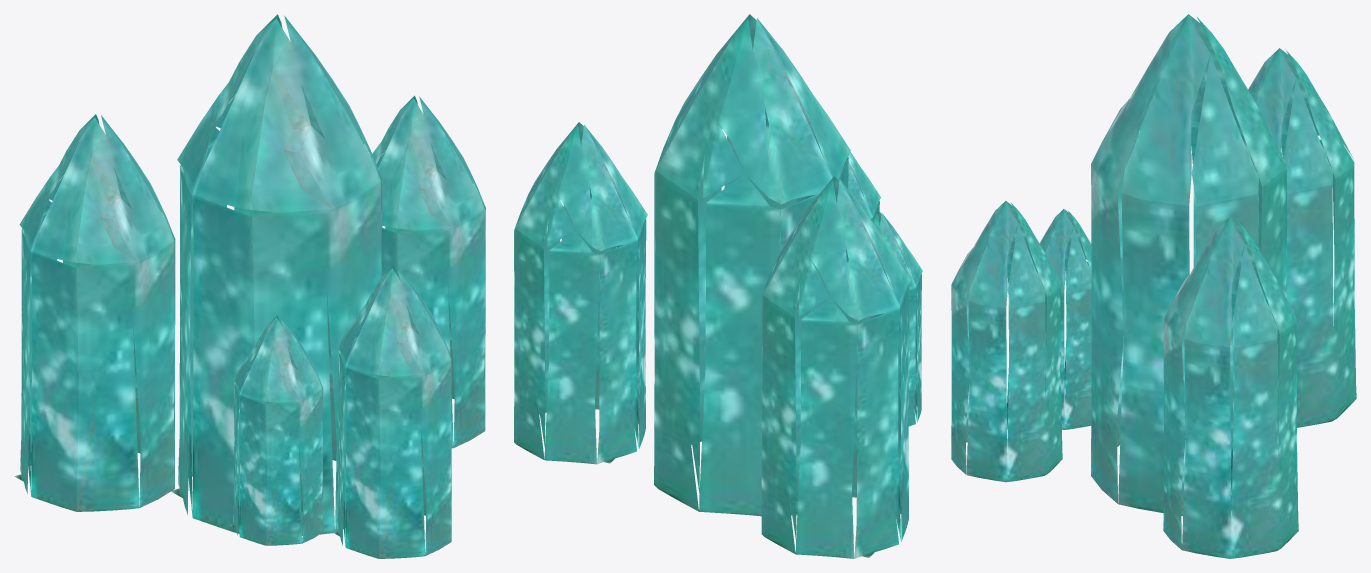
Rendered from scar_crystal_b_lod1.glb.
3 renders of one model, left to right at view 1: azimuth 30°, elevation 25°; view 2: azimuth 150°, elevation 25°; view 3: azimuth 270°, elevation 25°, orthographic. The views are drawn at different scales.
Visible parts, largest first — view 1: scar_crystal_b; view 2: scar_crystal_b; view 3: scar_crystal_b.
Part boxes in pixels (<box>): scar_crystal_b: <box>14,14,485,558</box>; scar_crystal_b: <box>514,14,922,558</box>; scar_crystal_b: <box>951,14,1356,558</box>.
Size of the model in its own units: 1.35 by 1.47 by 1.17.
1 material, 1 textured.
